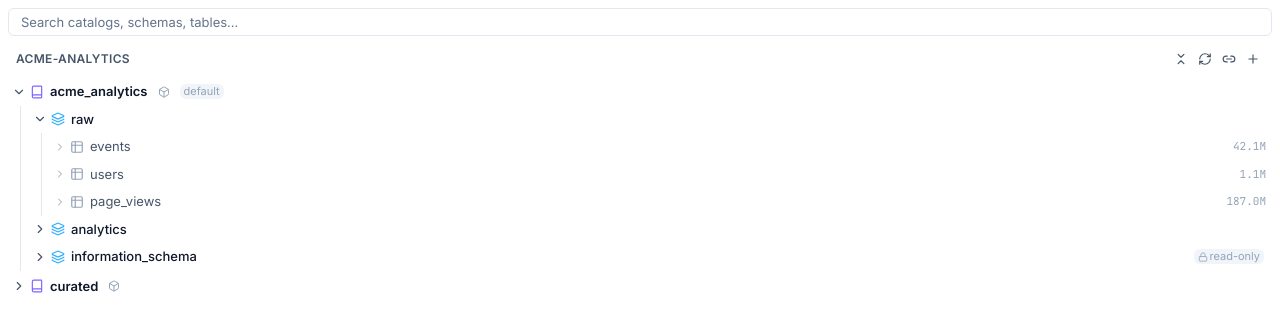
Test case: CatalogTree › collapses everything at once
The image size is (1280, 310).
expect the button "events 42.1M" is shown: met, box x1=70 y1=133 x2=1272 y2=160
Click the button named "Collapse all".
click(1181, 59)  # box x1=1170 y1=48 x2=1192 y2=70
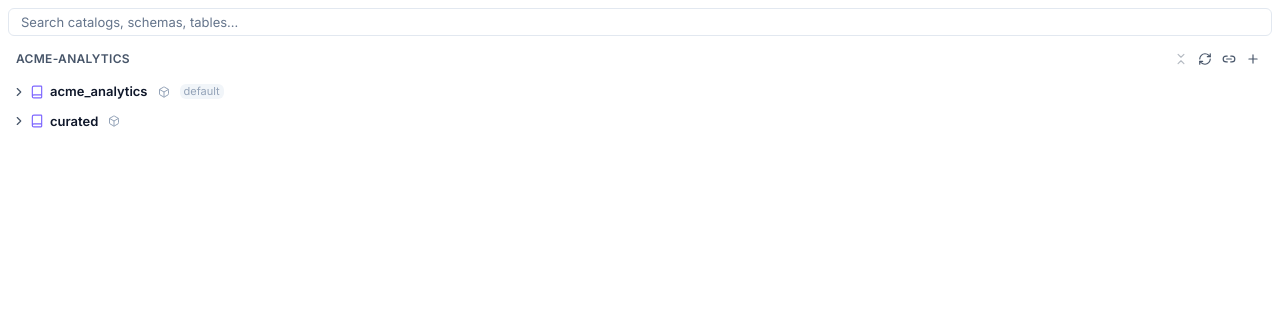
expect the button "events" is gone: met
